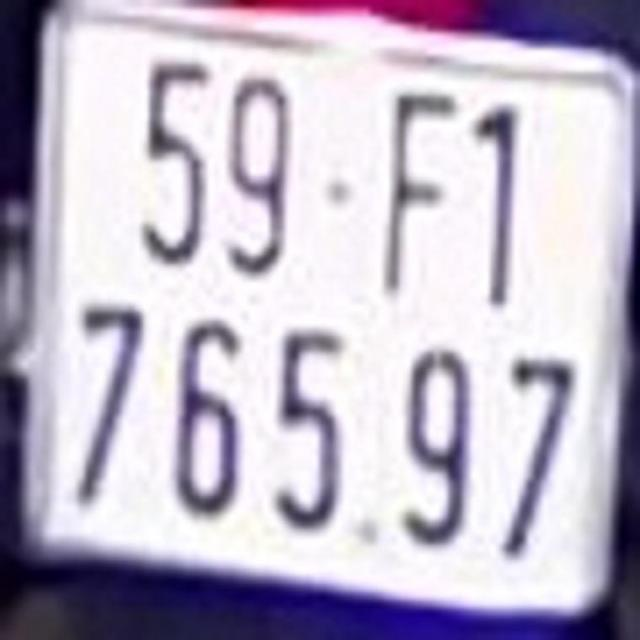1: (470, 84, 524, 308)
5: (275, 308, 346, 535), (134, 57, 208, 272)
6: (173, 305, 240, 514)
7: (501, 351, 577, 564), (73, 290, 144, 500)
9: (406, 326, 474, 550), (224, 58, 291, 281)
F: (379, 72, 459, 298)
